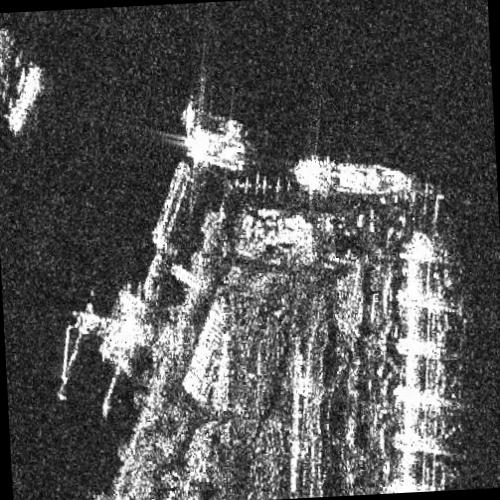ship: (292, 155, 409, 196), (150, 160, 189, 250), (4, 61, 42, 132)
